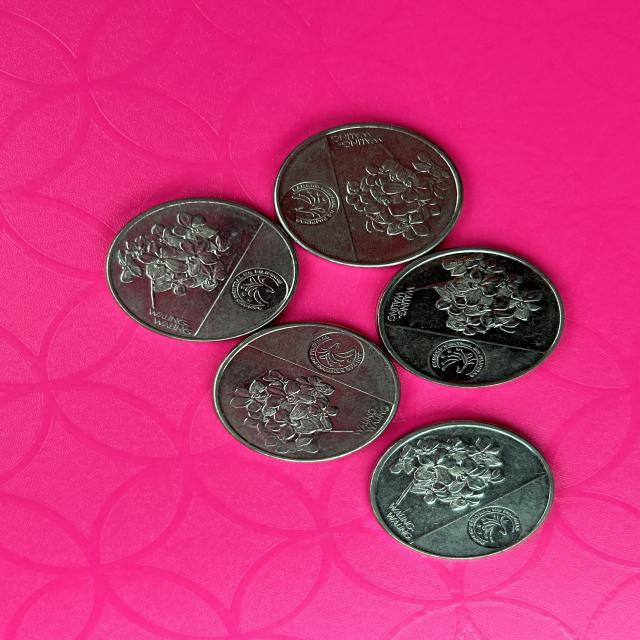1_New_Back: (385, 428, 519, 514), (124, 209, 235, 308), (340, 142, 449, 241), (228, 355, 332, 453), (416, 255, 524, 341)
